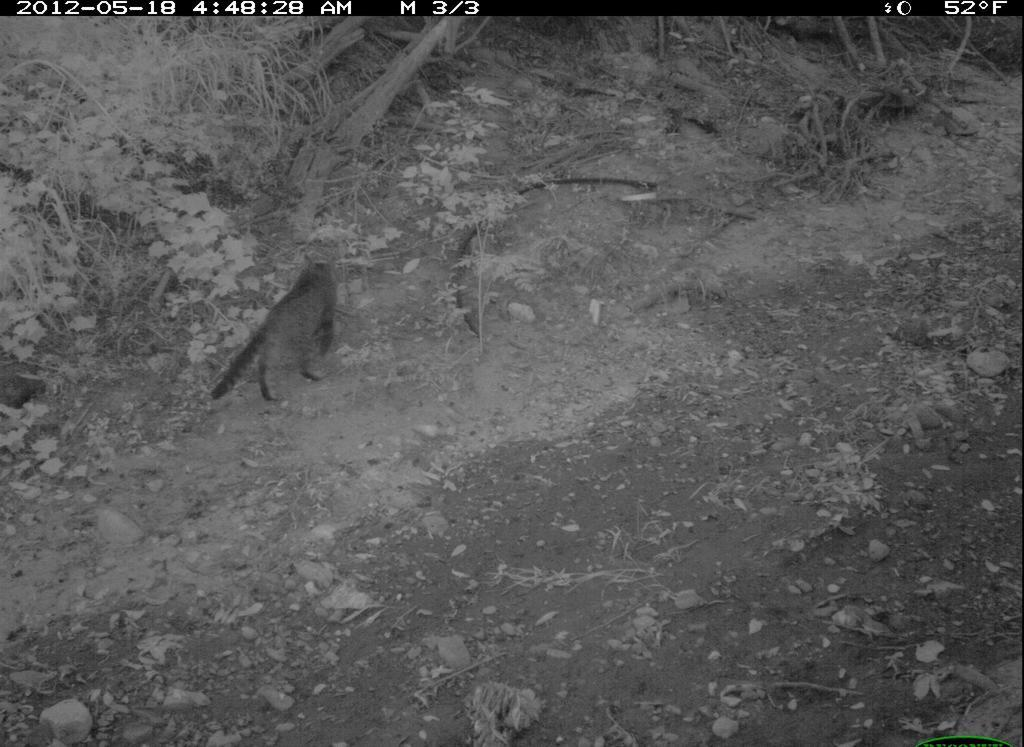cat: (195, 246, 355, 415)
